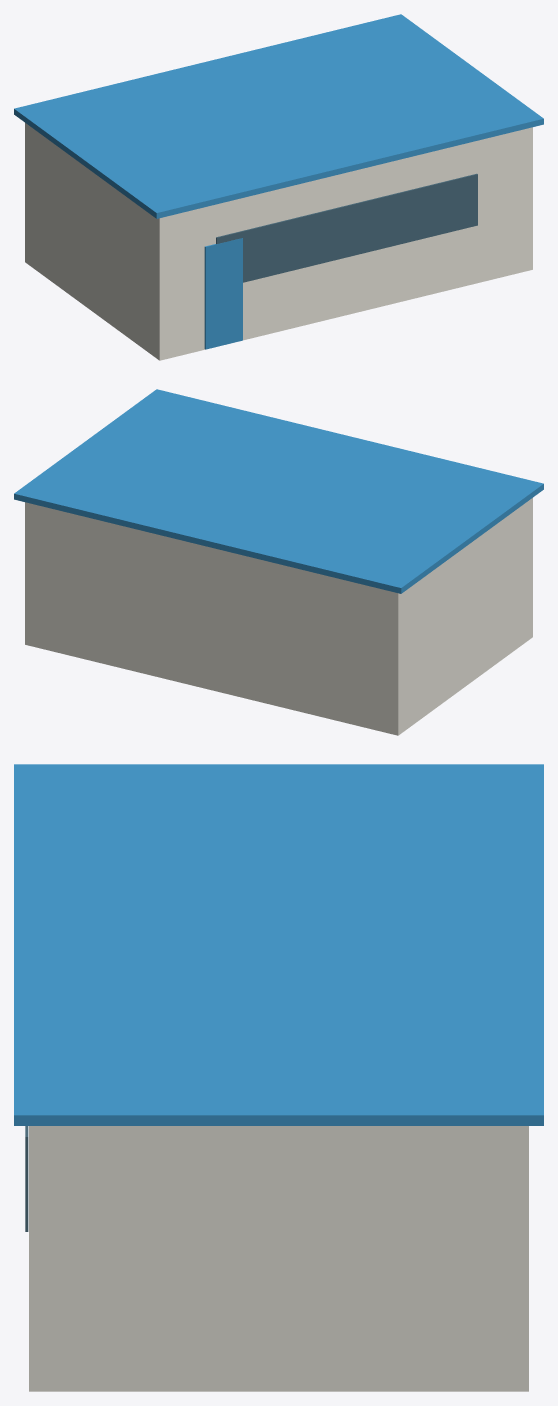
File: stock-car-oval-speedway-infield-care-center-5fa1bcde__16949.glb
3 views of the same model, one above another, from view 1: azimuth 30°, elevation 25°; view 2: azimuth 150°, elevation 25°; view 3: azimuth 270°, elevation 25° (orthographic). The views are drawn at different scales.
Parts seen in each view (by area): view 1: infield-care-center; view 2: infield-care-center; view 3: infield-care-center.
Boxes of the visible parts, x1=… form: infield-care-center: x1=14, y1=14, x2=543, y2=360; infield-care-center: x1=14, y1=389, x2=543, y2=735; infield-care-center: x1=14, y1=764, x2=543, y2=1391.
Size of the model in its own units: 8.3 by 3.12 by 5.3.
